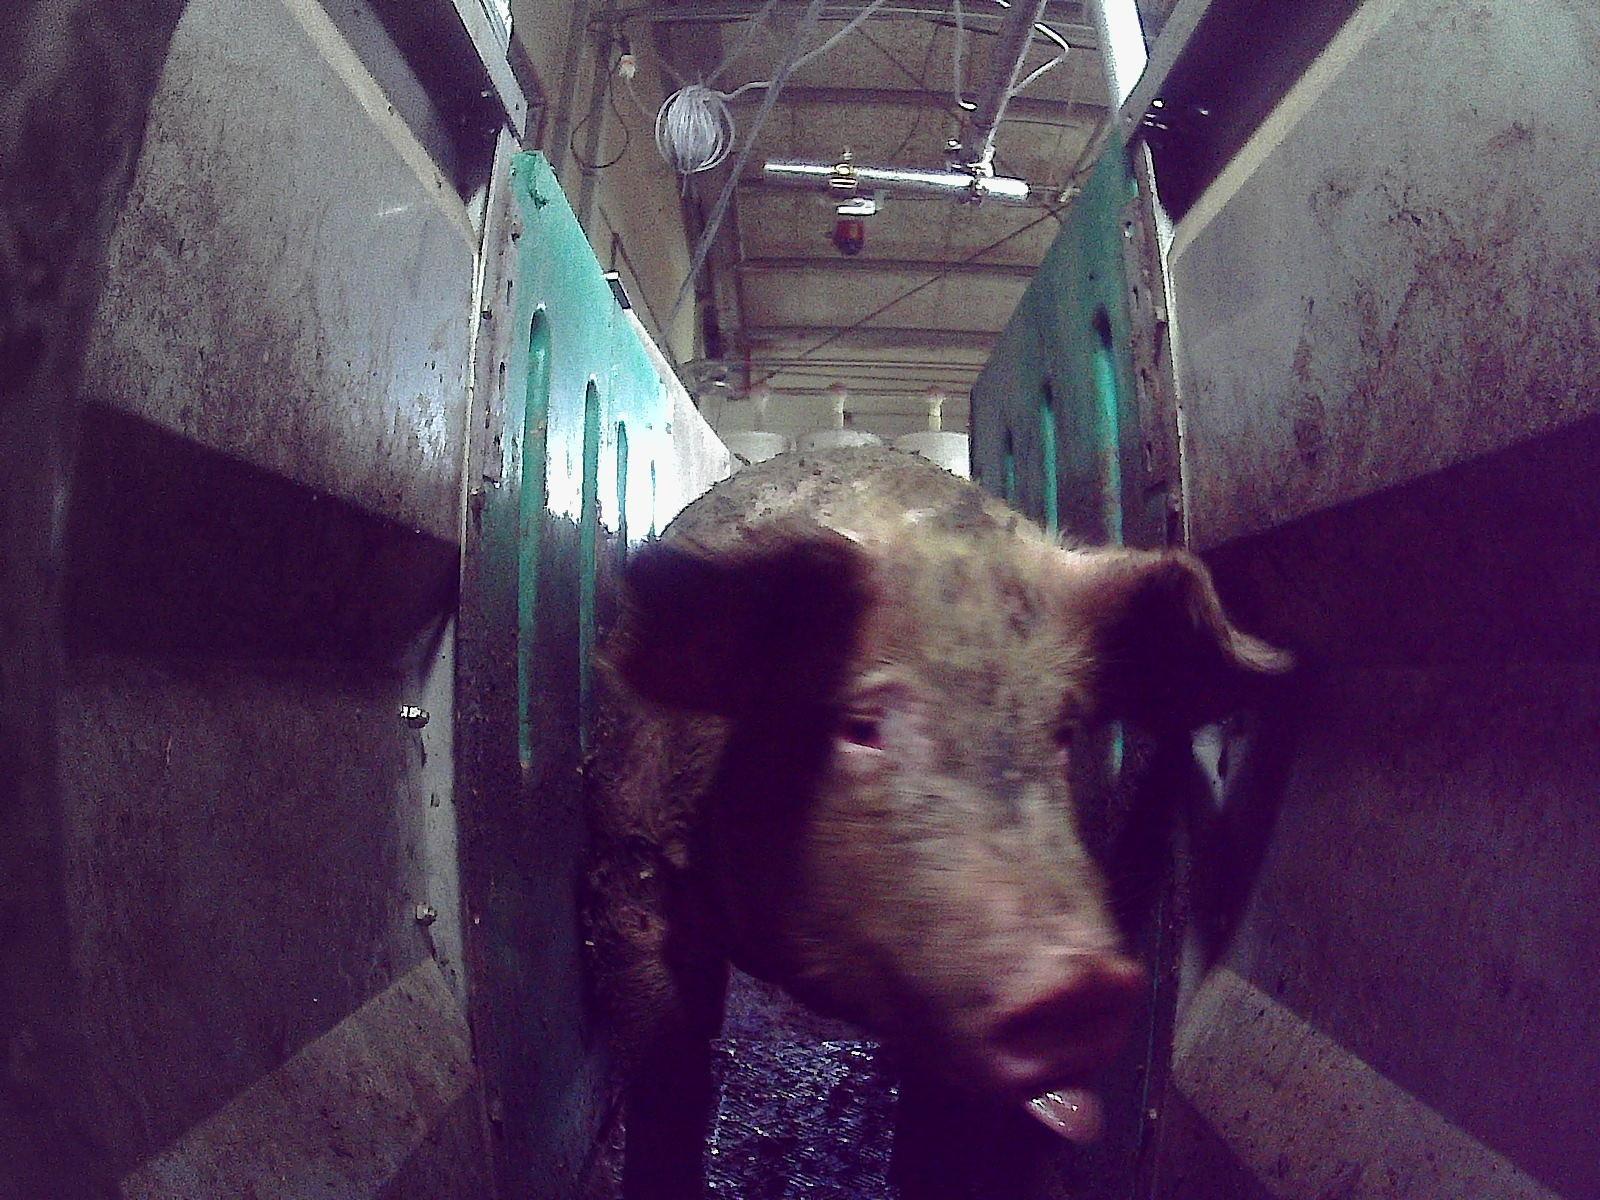Face: (746, 561, 1143, 1148)
